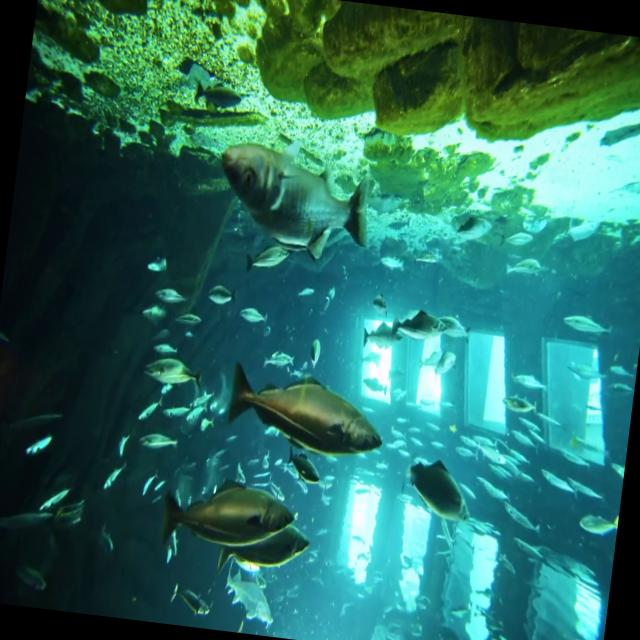fish: (208, 142, 380, 262), (223, 371, 386, 464), (158, 469, 300, 559), (212, 506, 314, 584), (400, 454, 479, 530), (140, 339, 210, 394), (240, 234, 296, 284)
